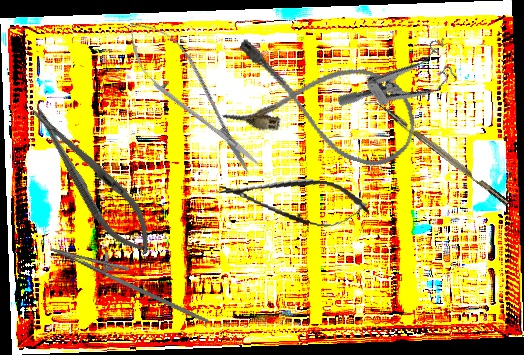Cannula: (218, 33, 427, 175)
Chopper: (362, 93, 510, 212)
Micro Scissor: (112, 7, 273, 185), (214, 166, 373, 234)
Needle Holder: (18, 94, 166, 266), (44, 235, 220, 324)
Speculum: (334, 27, 469, 143)
